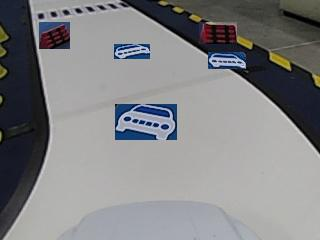crosswalk: (35, 2, 127, 19)
